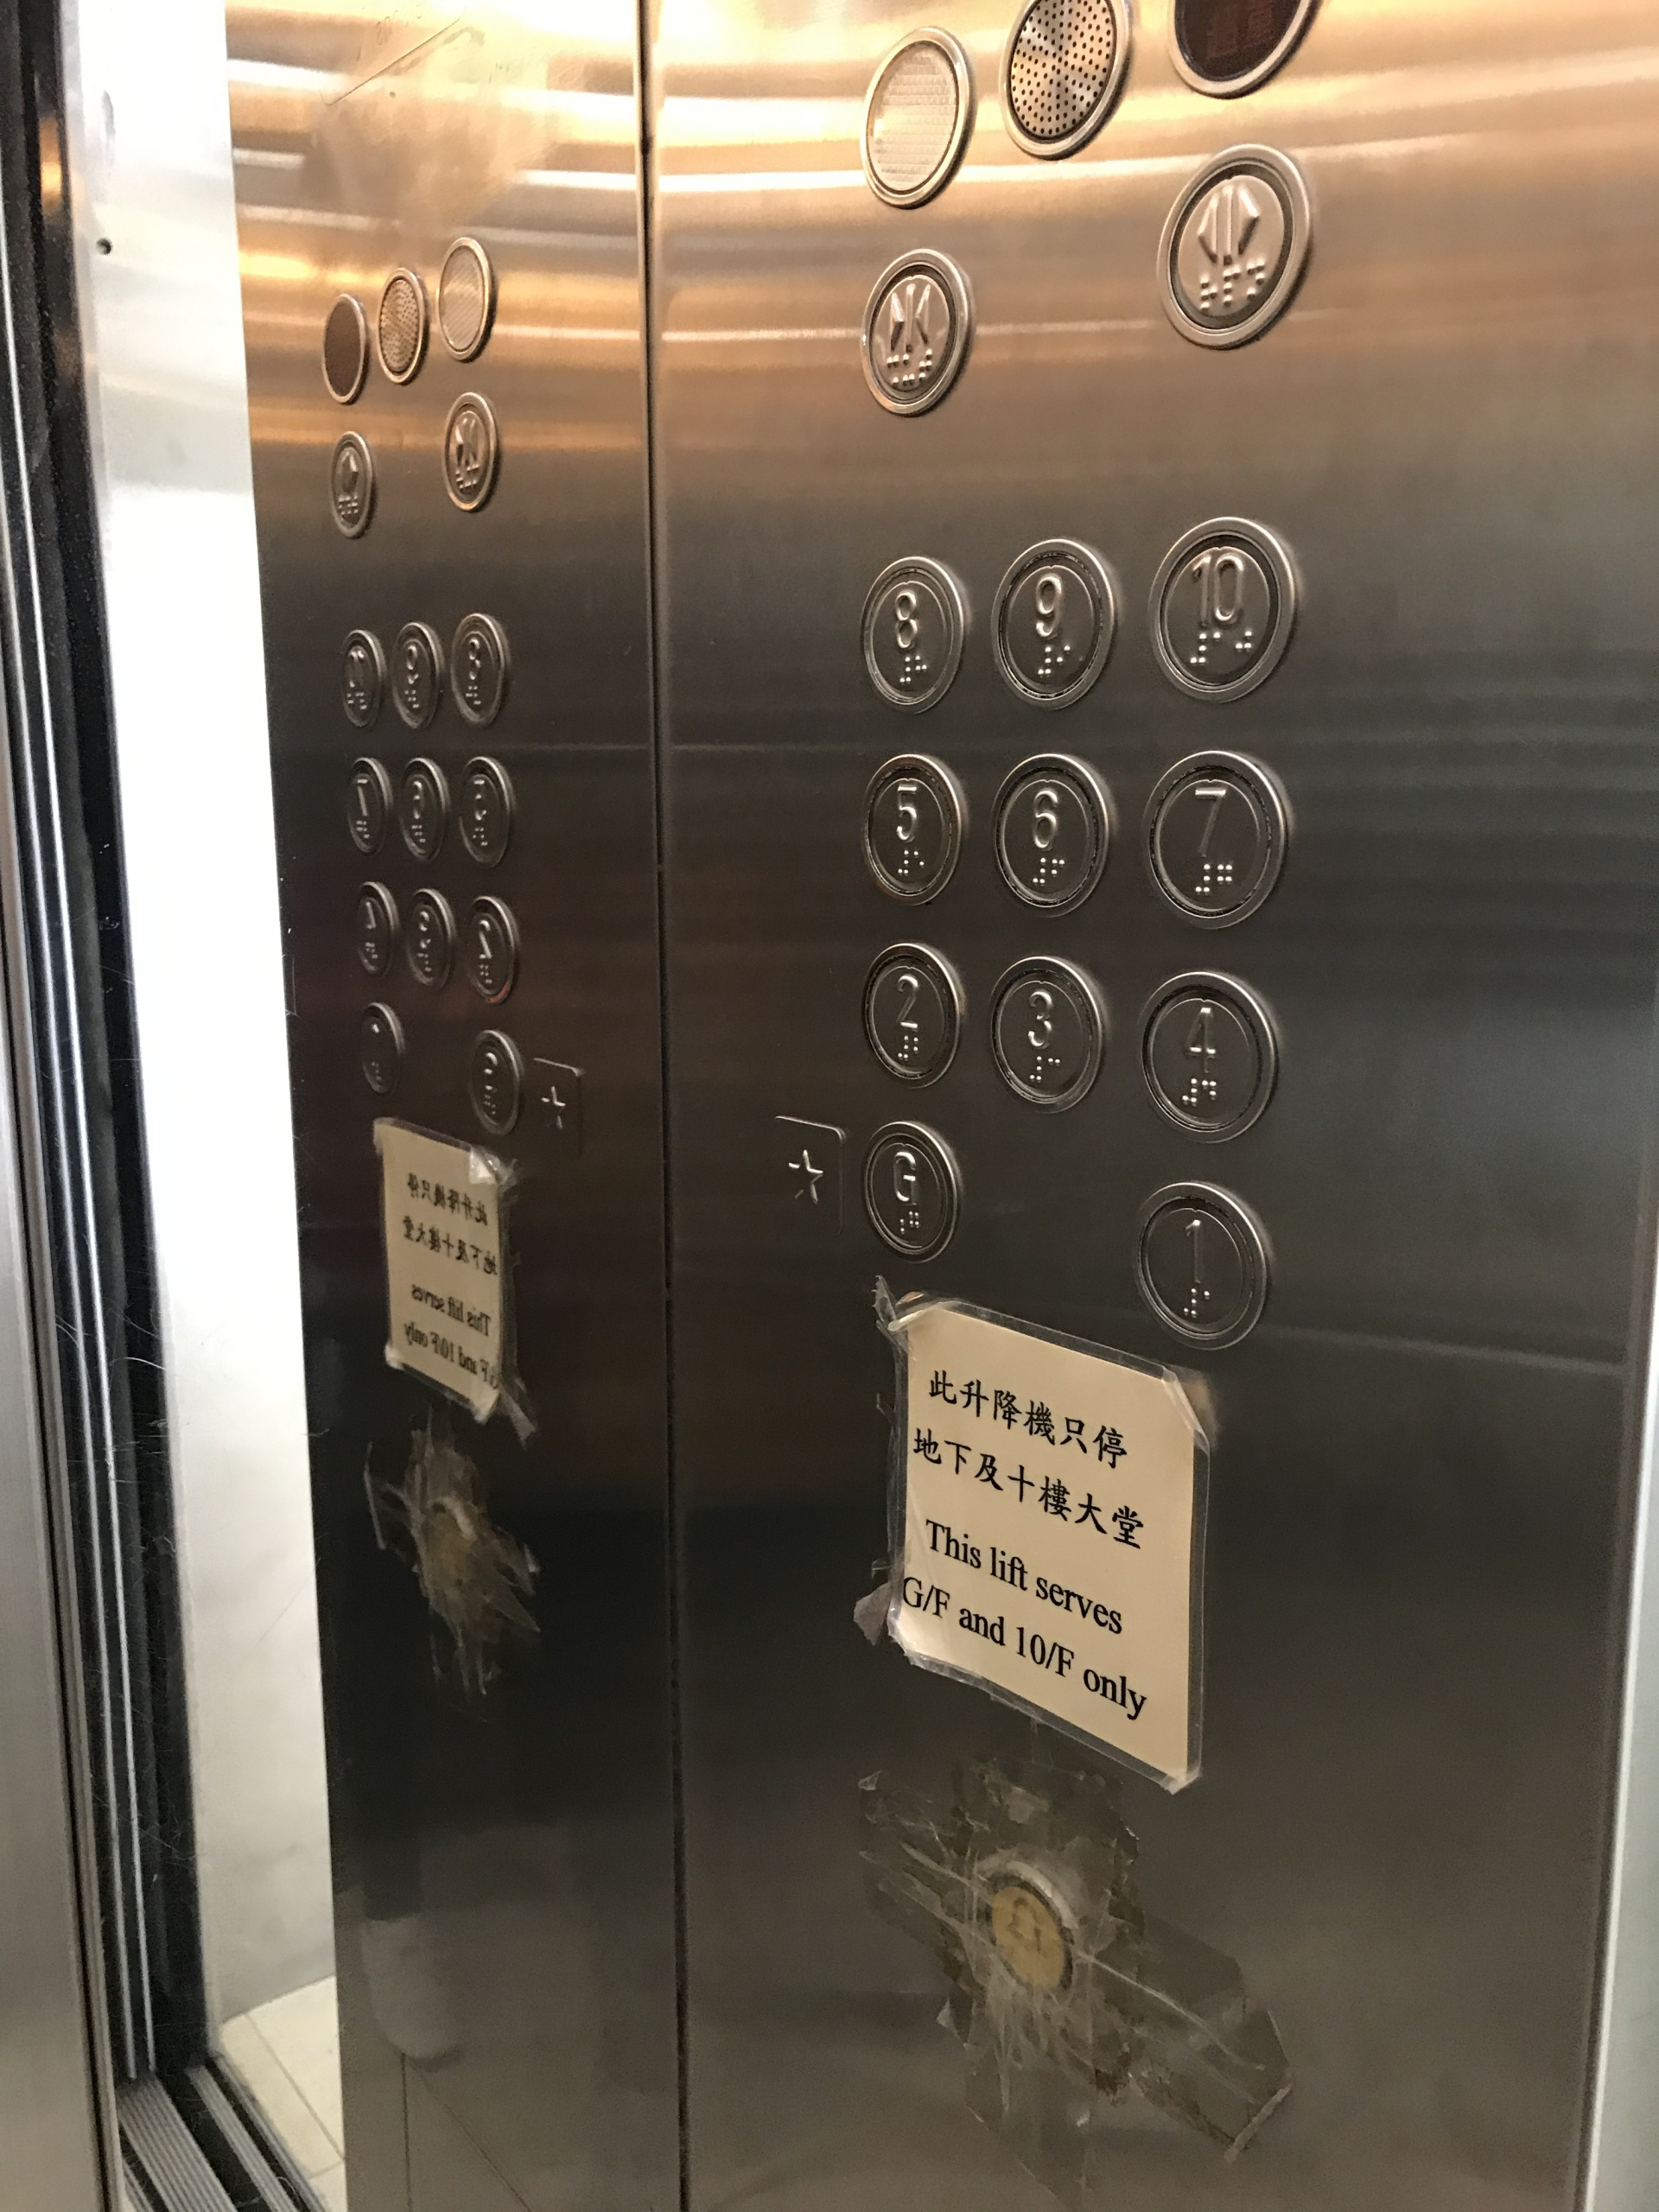1: (1122, 1176, 1272, 1353)
10: (1141, 512, 1300, 704)
2: (856, 941, 965, 1092)
3: (981, 954, 1108, 1115)
4: (1127, 967, 1277, 1144)
5: (854, 749, 969, 906)
6: (983, 751, 1115, 920)
7: (1138, 749, 1290, 934)
8: (852, 552, 969, 718)
9: (986, 536, 1117, 711)
G: (854, 1118, 964, 1264)
close: (856, 244, 972, 421), (437, 388, 502, 516), (322, 428, 378, 540)
empty: (856, 21, 974, 211), (430, 233, 497, 362), (314, 291, 369, 408)
open: (1150, 139, 1314, 352)
s: (769, 1108, 845, 1242), (526, 1055, 586, 1155)
speaker: (993, 0, 1133, 160), (371, 266, 429, 385)
unknown: (446, 610, 511, 730), (451, 754, 514, 871), (458, 892, 519, 1005), (464, 1024, 523, 1137), (387, 620, 443, 732), (394, 754, 450, 864), (401, 885, 455, 995), (333, 627, 385, 732), (342, 754, 392, 859), (347, 880, 399, 979), (355, 1000, 406, 1097)
